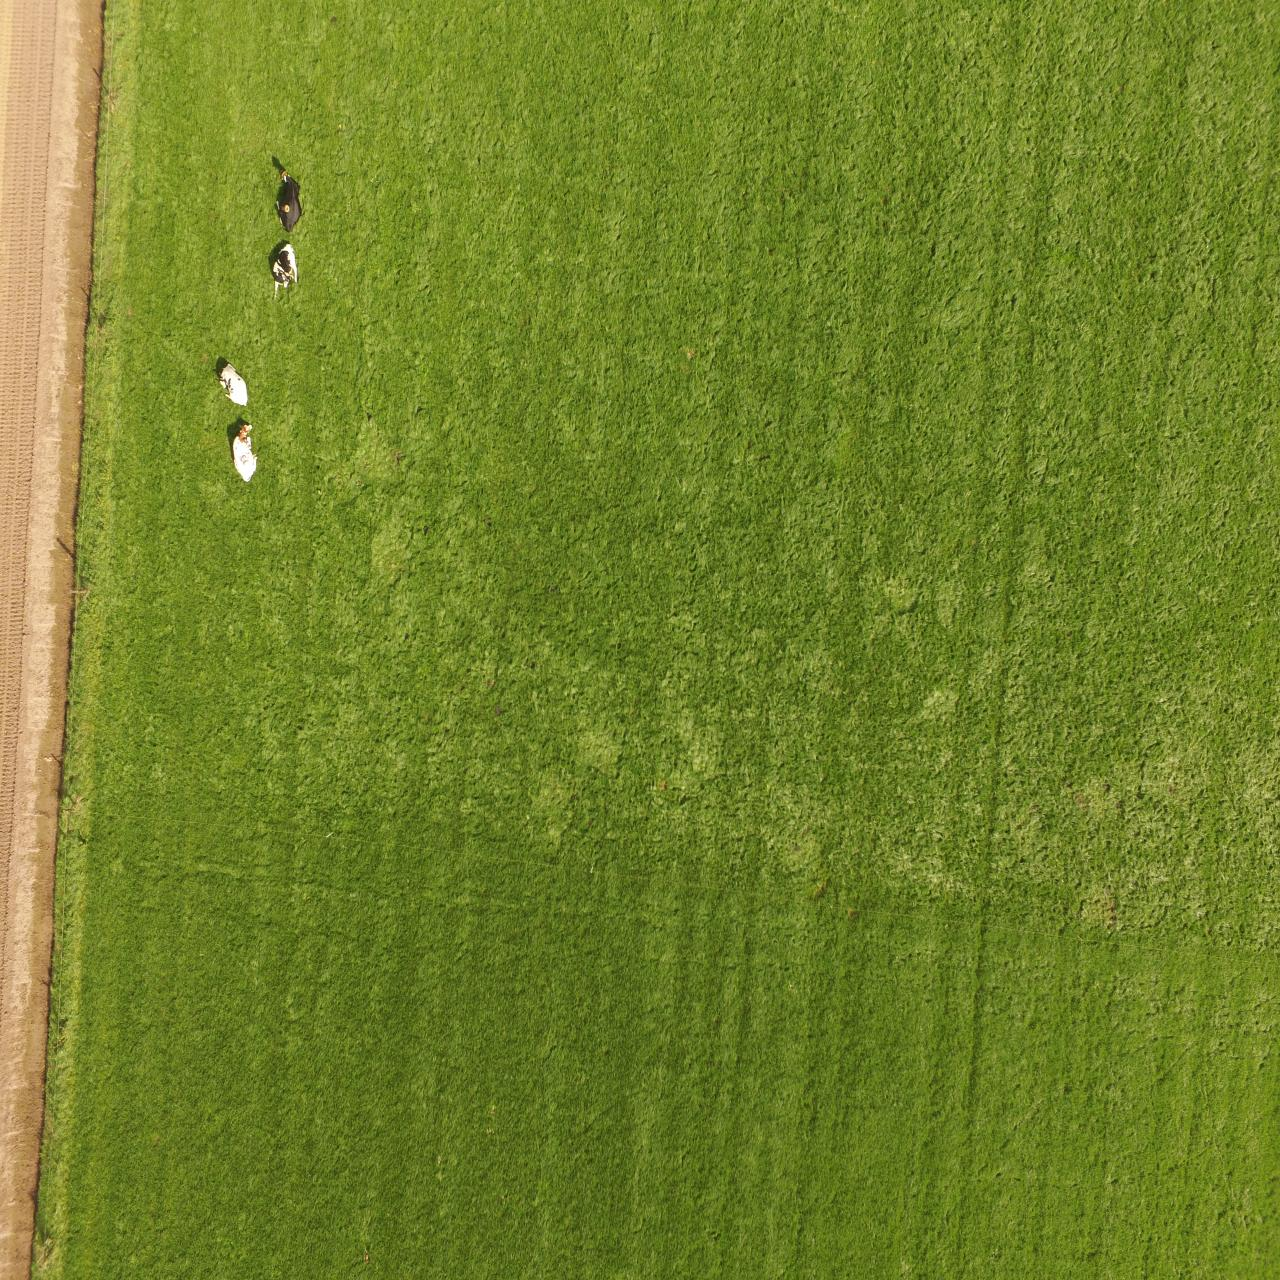cow: (275, 164, 301, 232), (232, 421, 259, 482), (215, 361, 248, 408), (272, 240, 298, 298)
